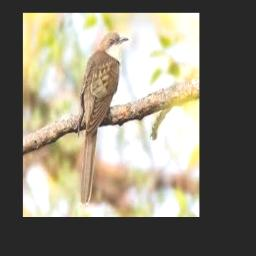Cuckoo: (79, 31, 129, 205)
